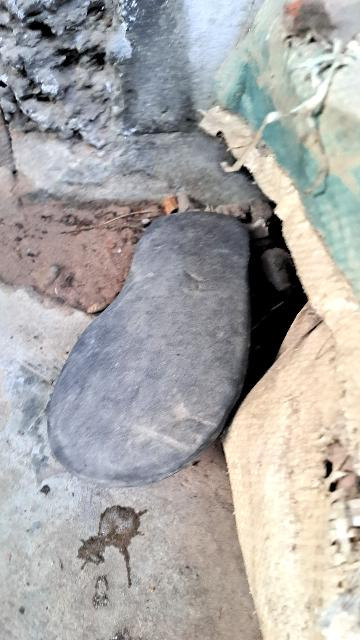sandal: (16, 190, 278, 496)
